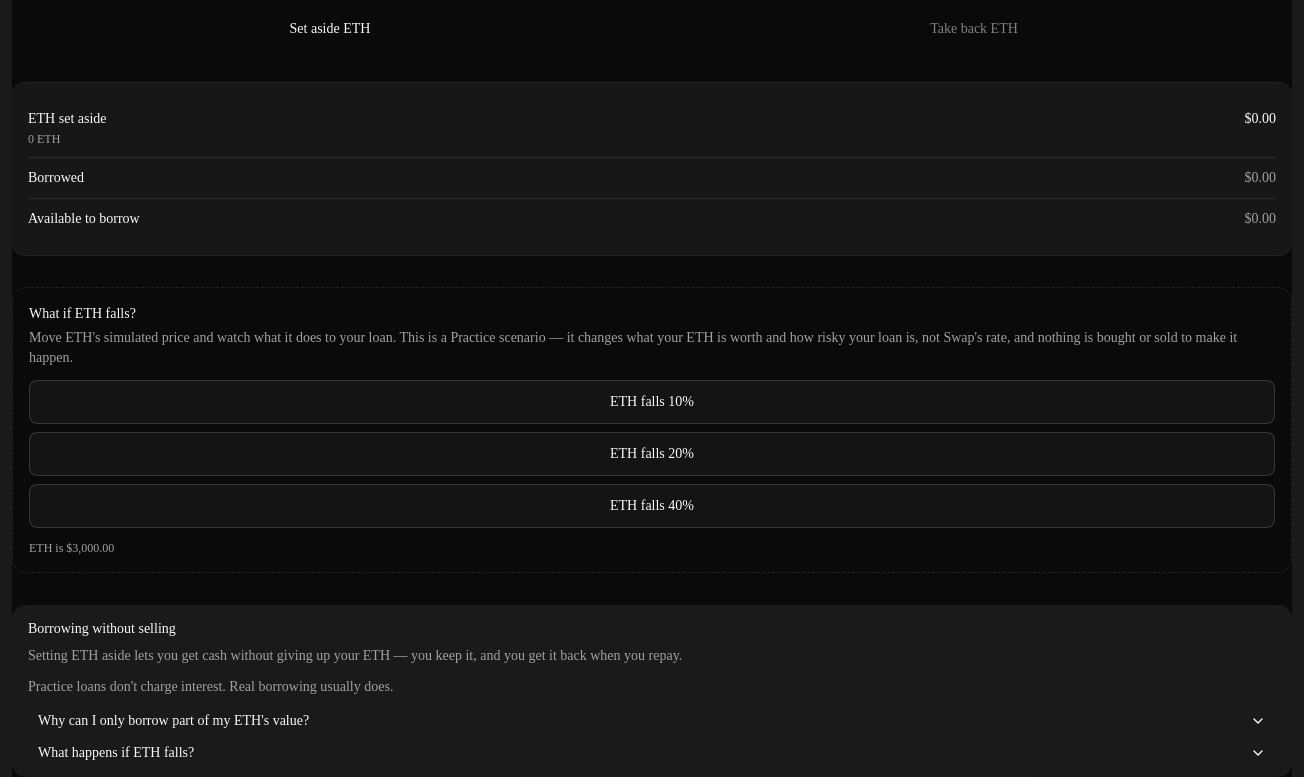
Test: BorrowView › holding 2 ETH › explains the safety buffer and liquidation a tap away
(page scrolled)
Expected: the text "called loan-to-value" is not shown
Click the button "Why can I only borrow part of my ETH's value?": (174, 720) x1=28 y1=710 x2=1276 y2=730
(page scrolled)
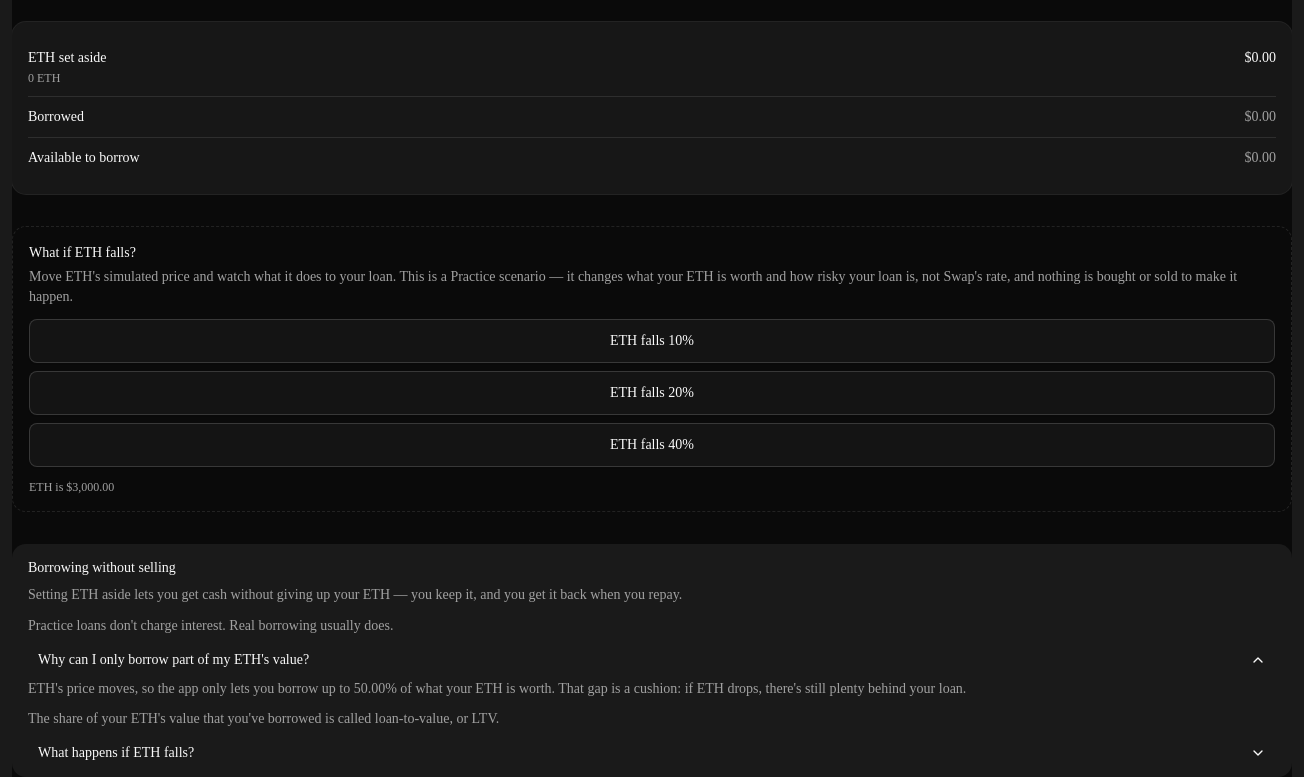
Result: the text "called loan-to-value" is shown at x1=28 y1=711 x2=499 y2=726
Click the button "What happens if ETH falls?": (116, 752) x1=28 y1=743 x2=1276 y2=763
(page scrolled)
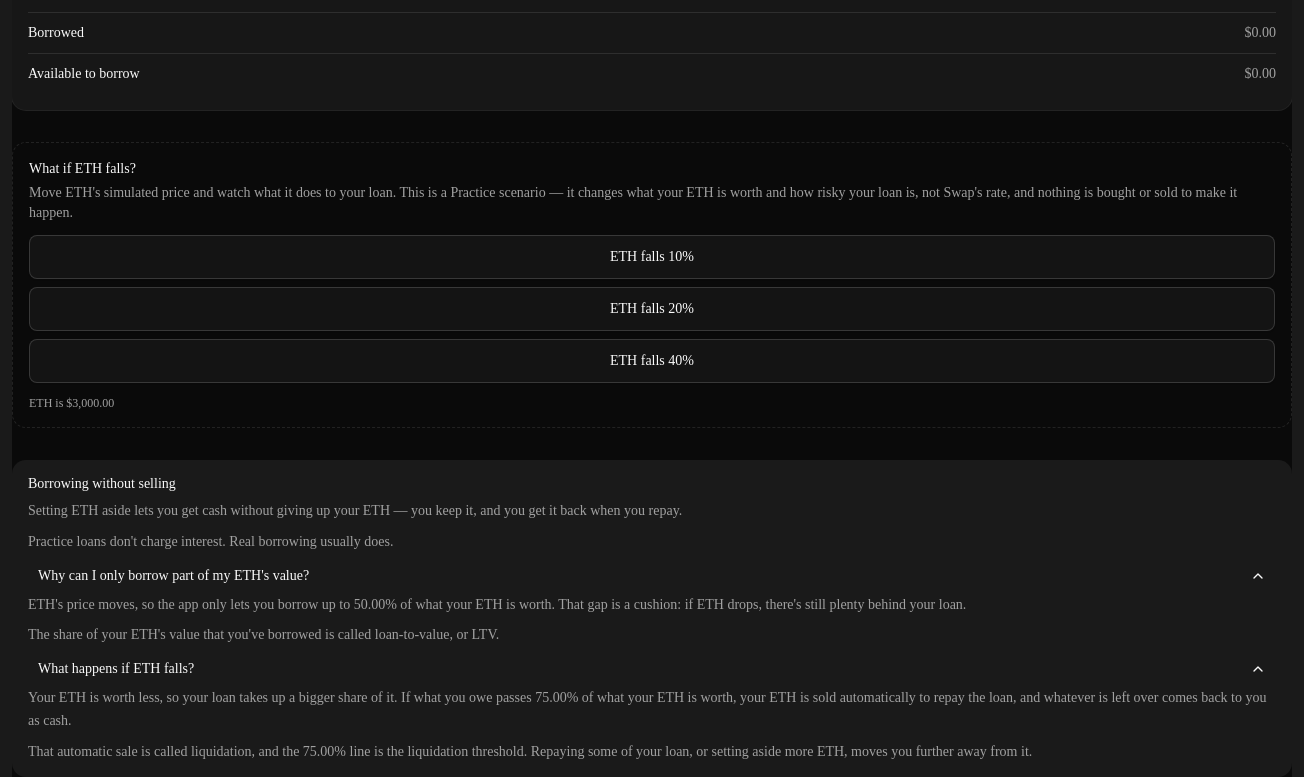
Result: the text "is called liquidation" is shown at x1=28 y1=744 x2=299 y2=758
